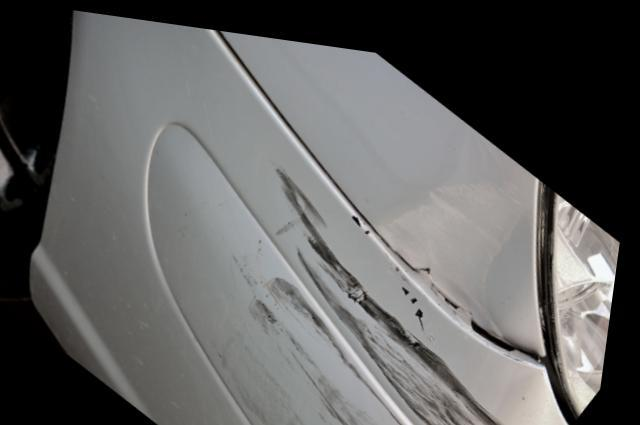dent: (387, 170, 535, 320)
dislocated part: (193, 21, 550, 359)
scratch: (205, 149, 537, 425)
